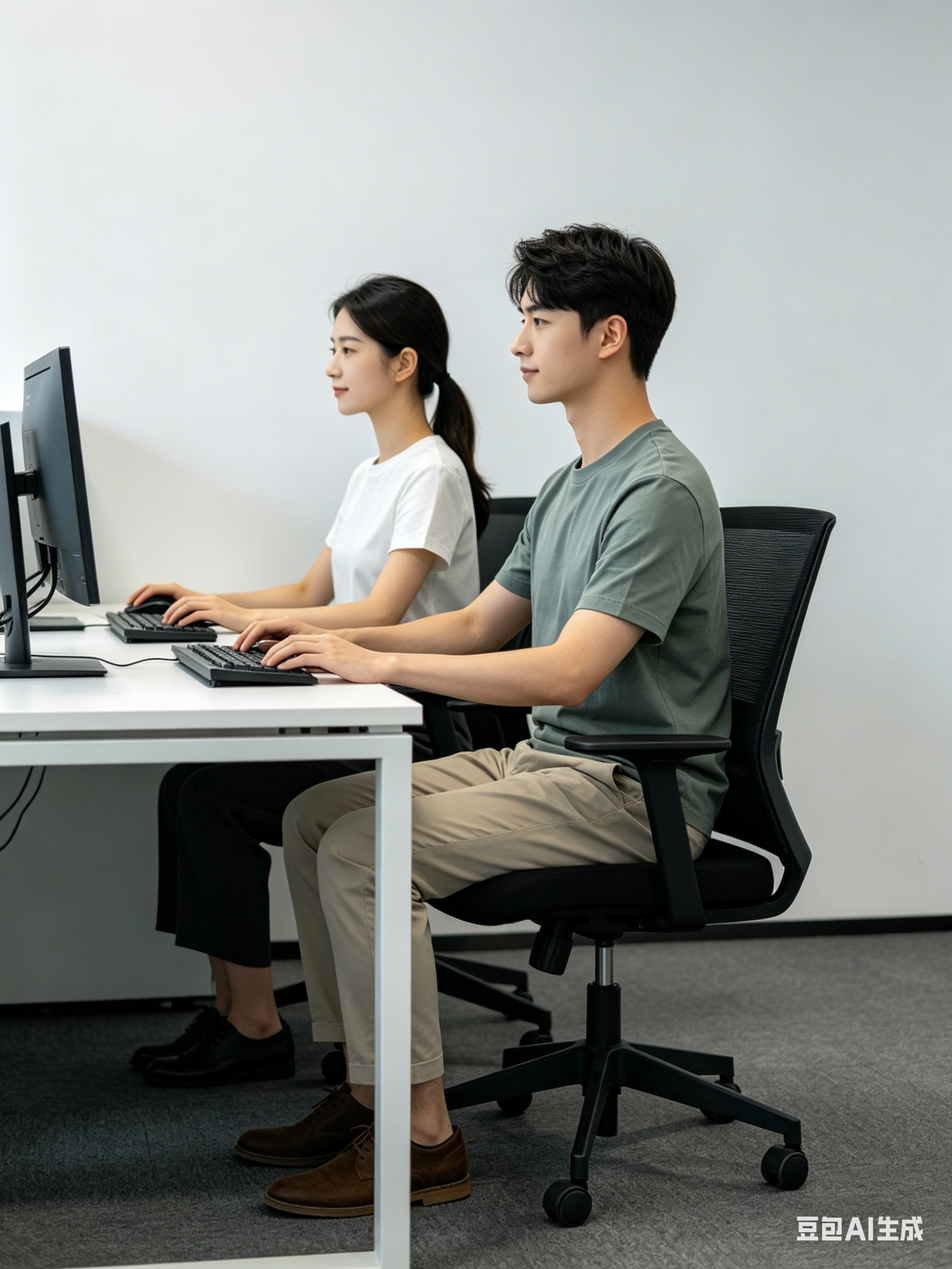sitting_good: (460, 222, 818, 847), (192, 271, 473, 645)
